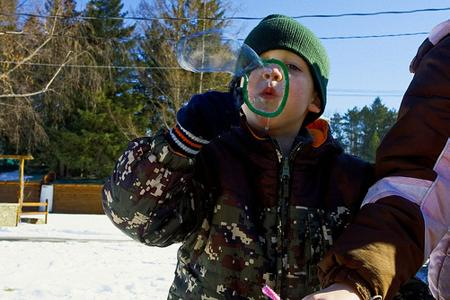person: (100, 16, 383, 300)
